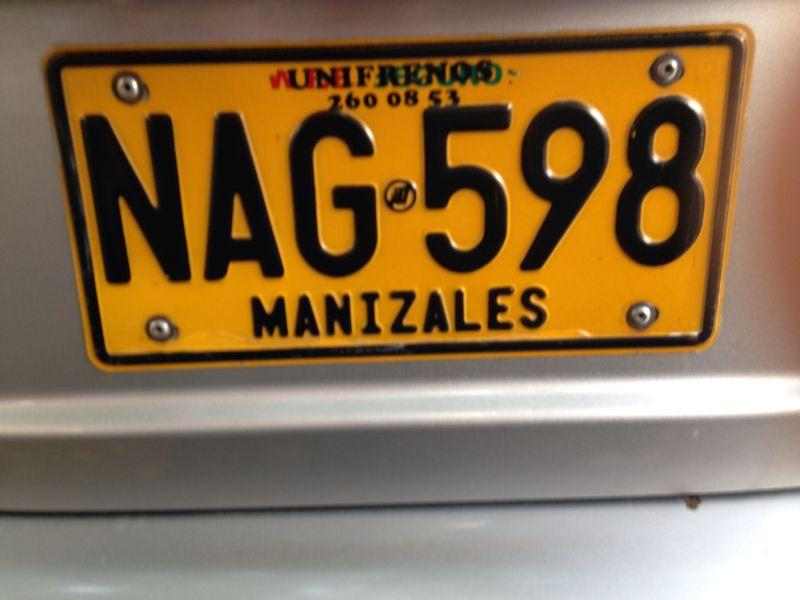placas: (27, 22, 757, 368)
